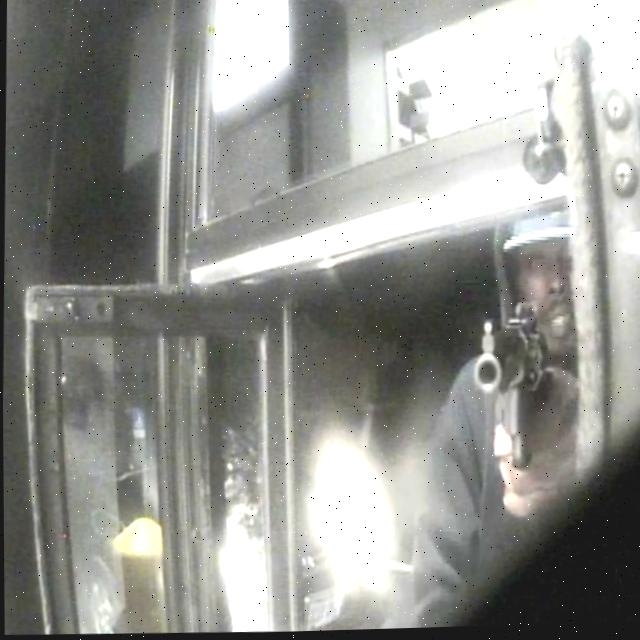pistol: (472, 303, 548, 462)
